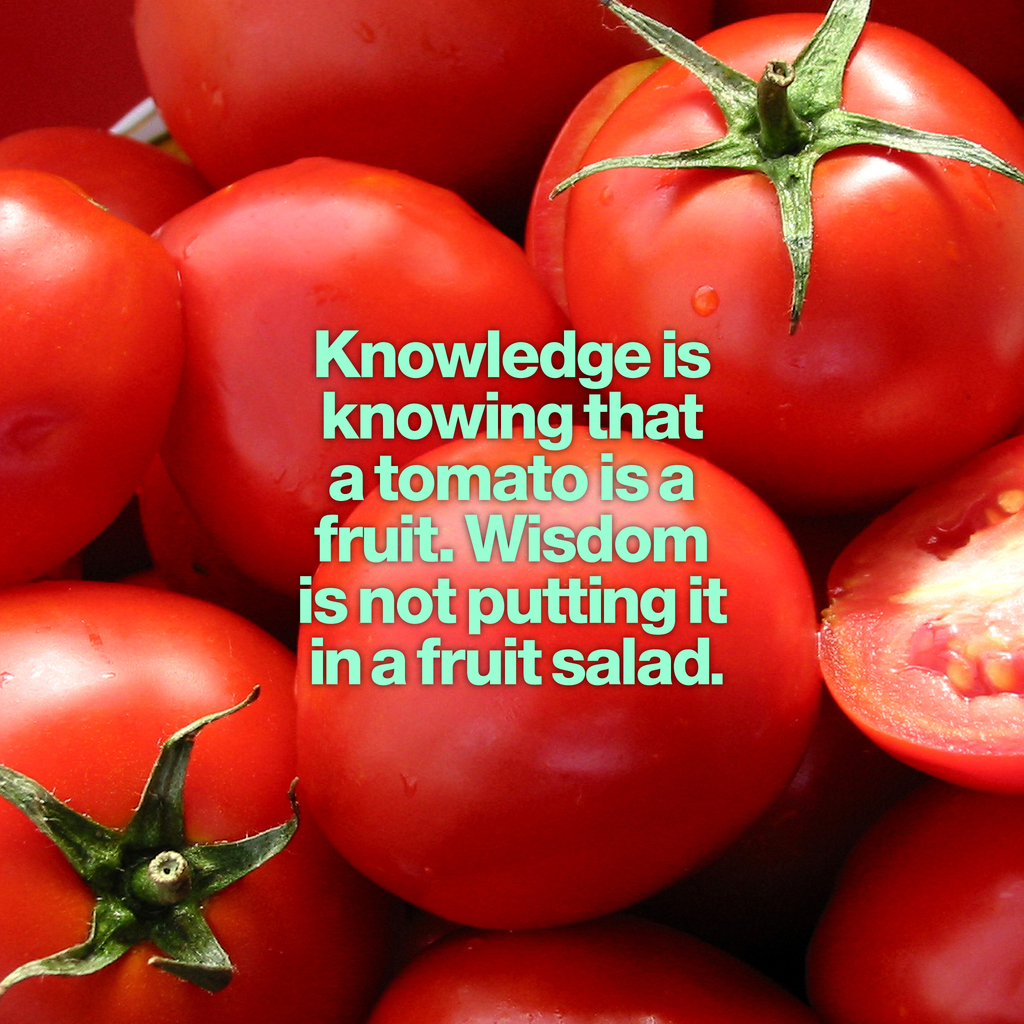Tomato: (0, 0, 1023, 1024)
